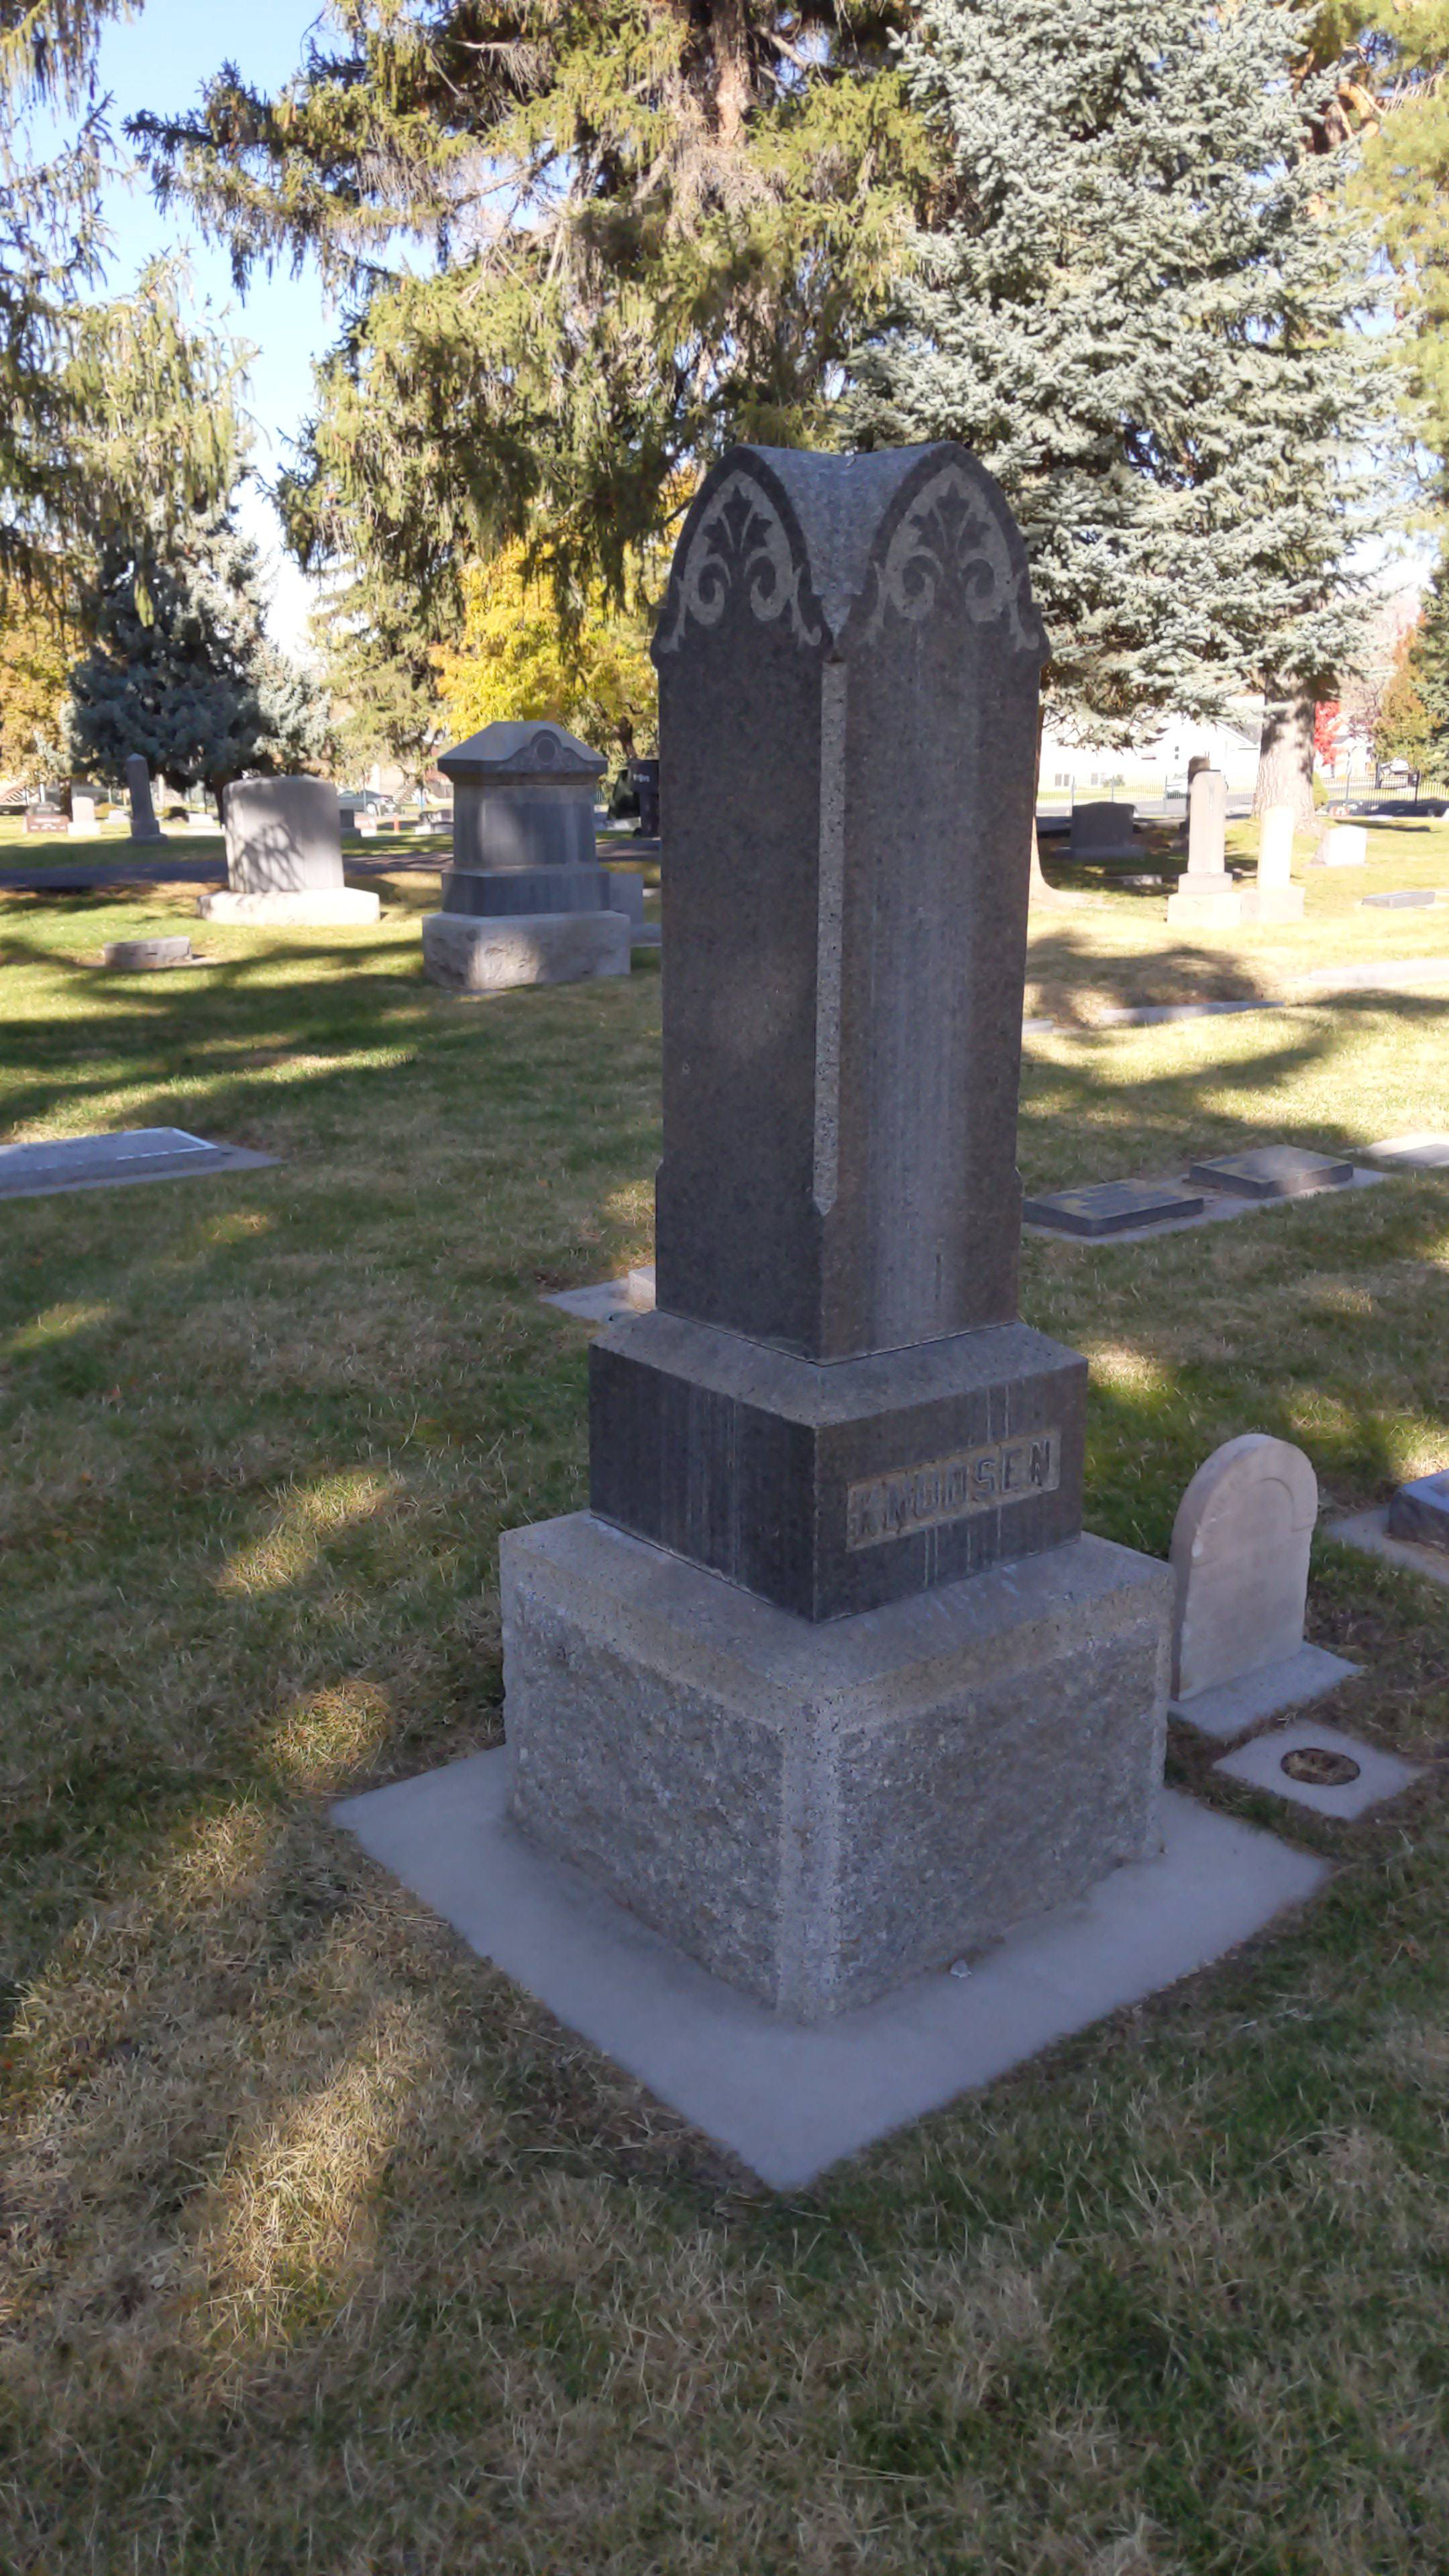obelisk: (586, 460, 1085, 1601)
